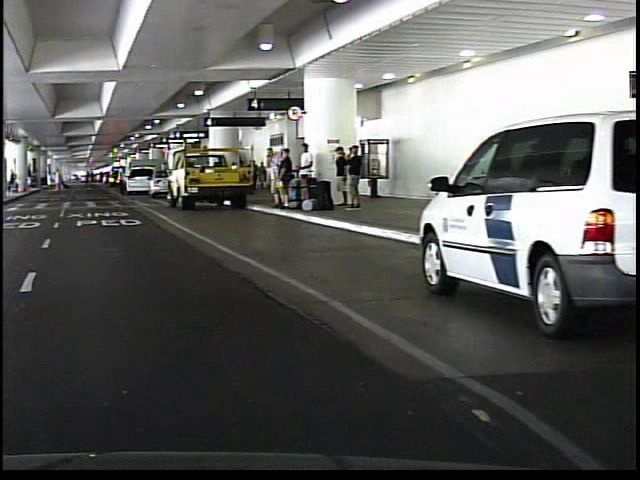person: (259, 144, 278, 206), (342, 144, 359, 212), (48, 162, 64, 196), (111, 166, 123, 198)
